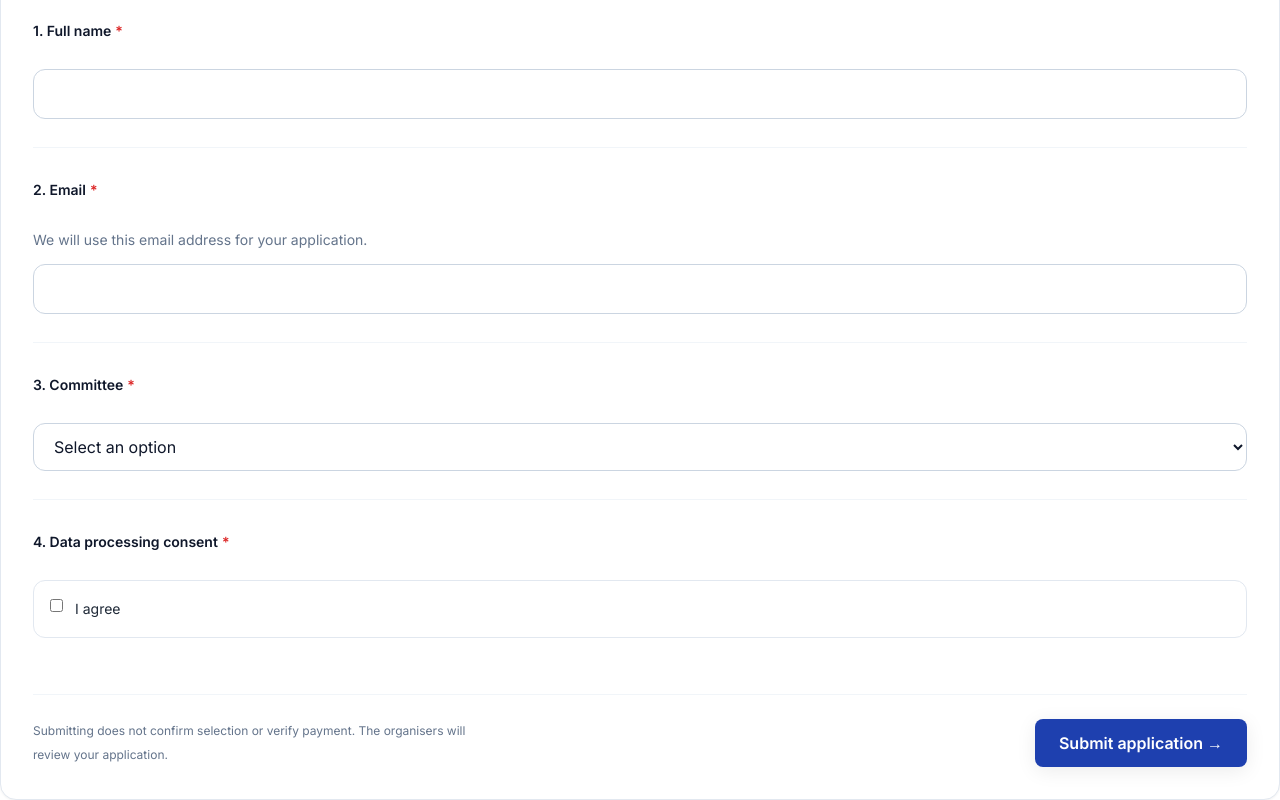
shows required errors before making a submission
(page scrolled)
Click the button "Submit application →": (1141, 743) [1035,719,1247,767]
(page scrolled)
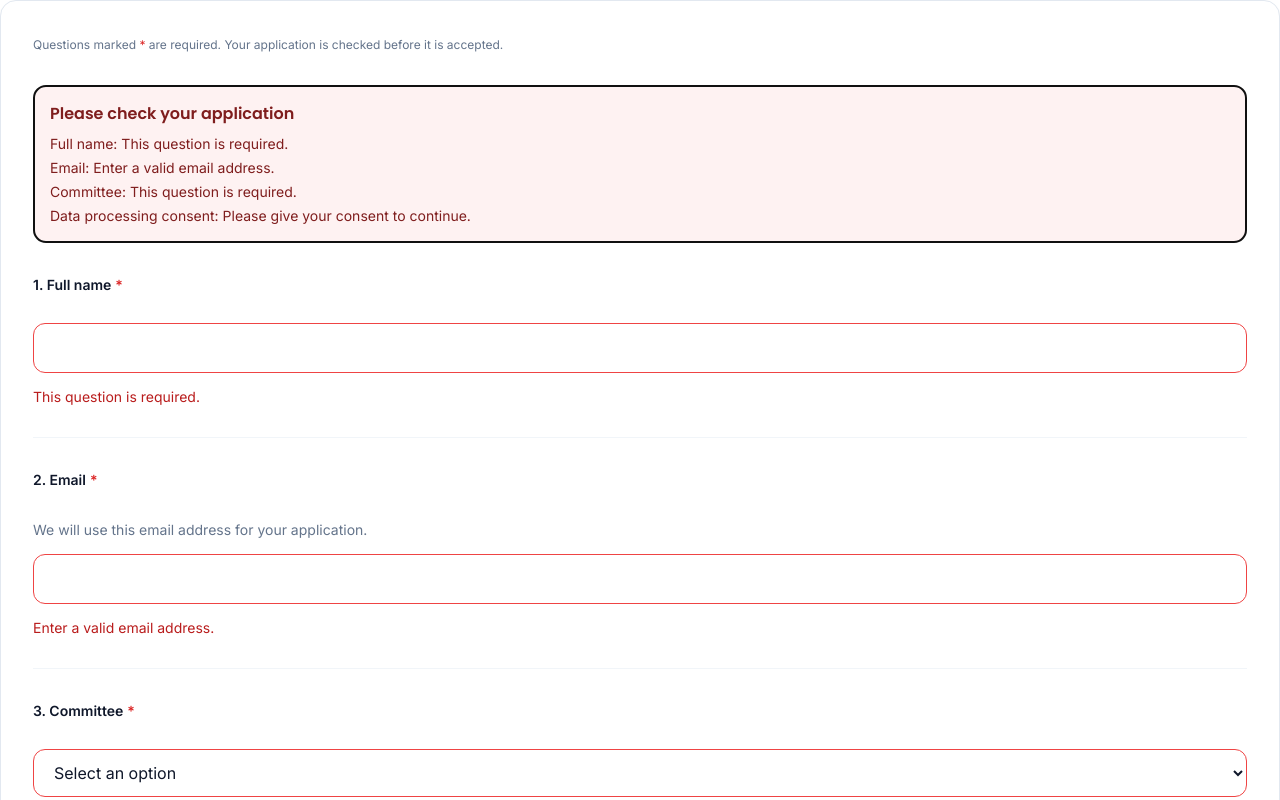
Expected: the list item "Full name: This question is required." is shown, [50,135,288,152]
